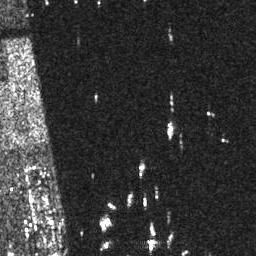ship: (167, 121, 174, 141), (148, 220, 156, 237), (99, 218, 107, 233), (138, 162, 145, 178), (166, 232, 174, 246), (106, 201, 118, 210), (127, 193, 134, 207), (100, 241, 110, 250), (143, 196, 148, 209), (94, 93, 99, 103)
